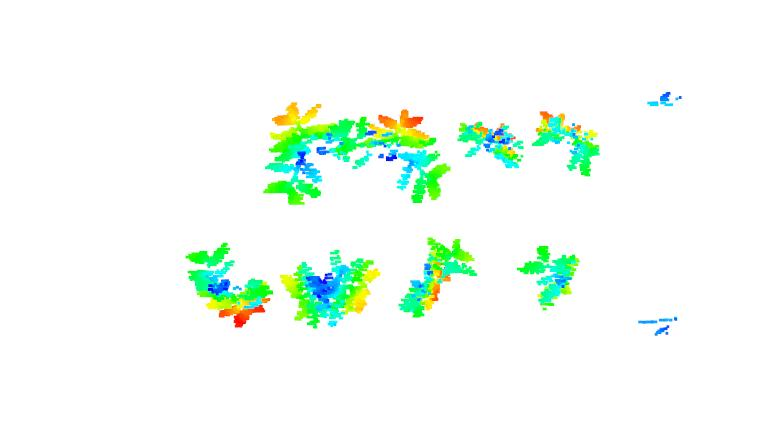chickpea: (323, 107, 448, 205), (278, 245, 381, 328), (185, 237, 274, 332), (397, 234, 481, 318), (266, 99, 327, 204), (530, 108, 603, 181), (452, 113, 525, 170), (518, 243, 579, 309)
